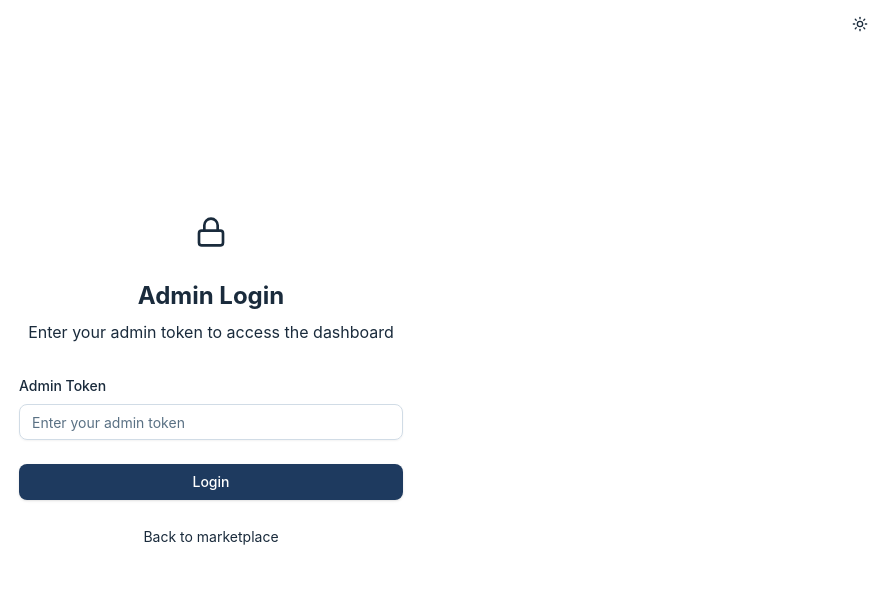
Test: Admin Login Flow › shows error for invalid token
Type "invalid-token" into the password field labelled "Admin Token" at (211, 422), box [19, 404, 403, 440]
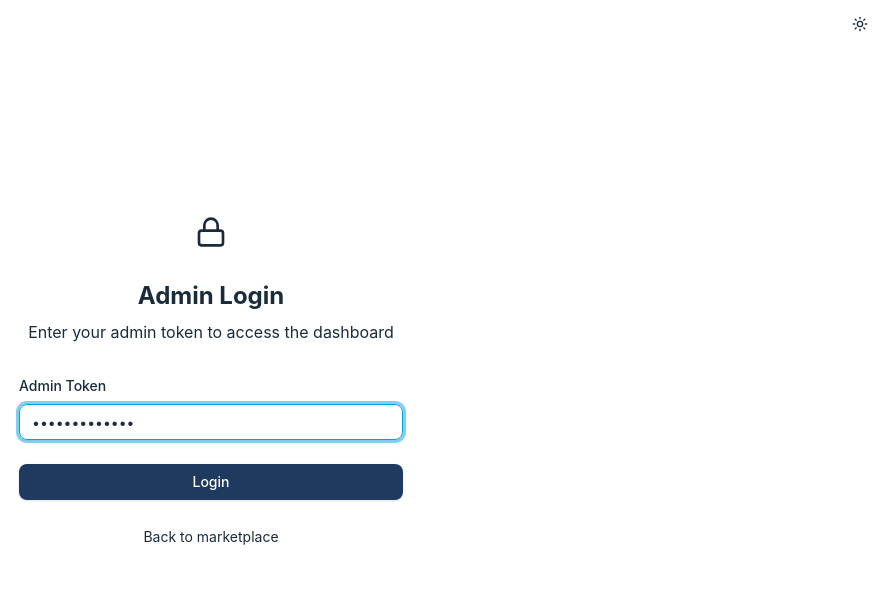
Click the button "Login" at (211, 482), box [19, 464, 403, 500]
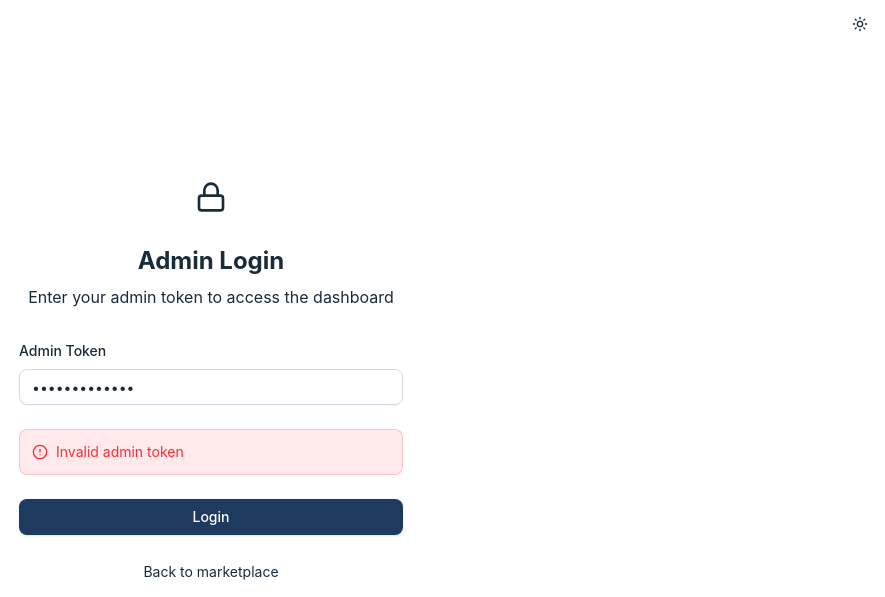
Check: the text "Invalid admin token" is shown, box [56, 442, 184, 462]
